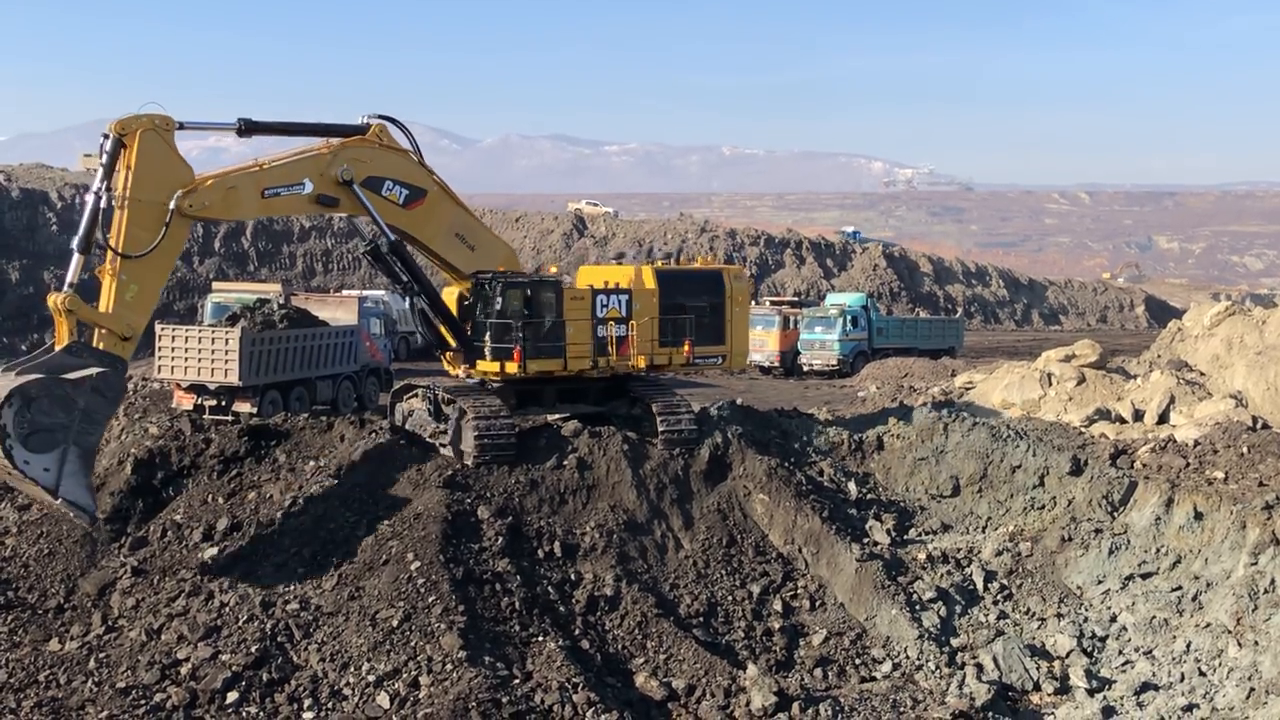empty: (2, 349, 146, 519)
